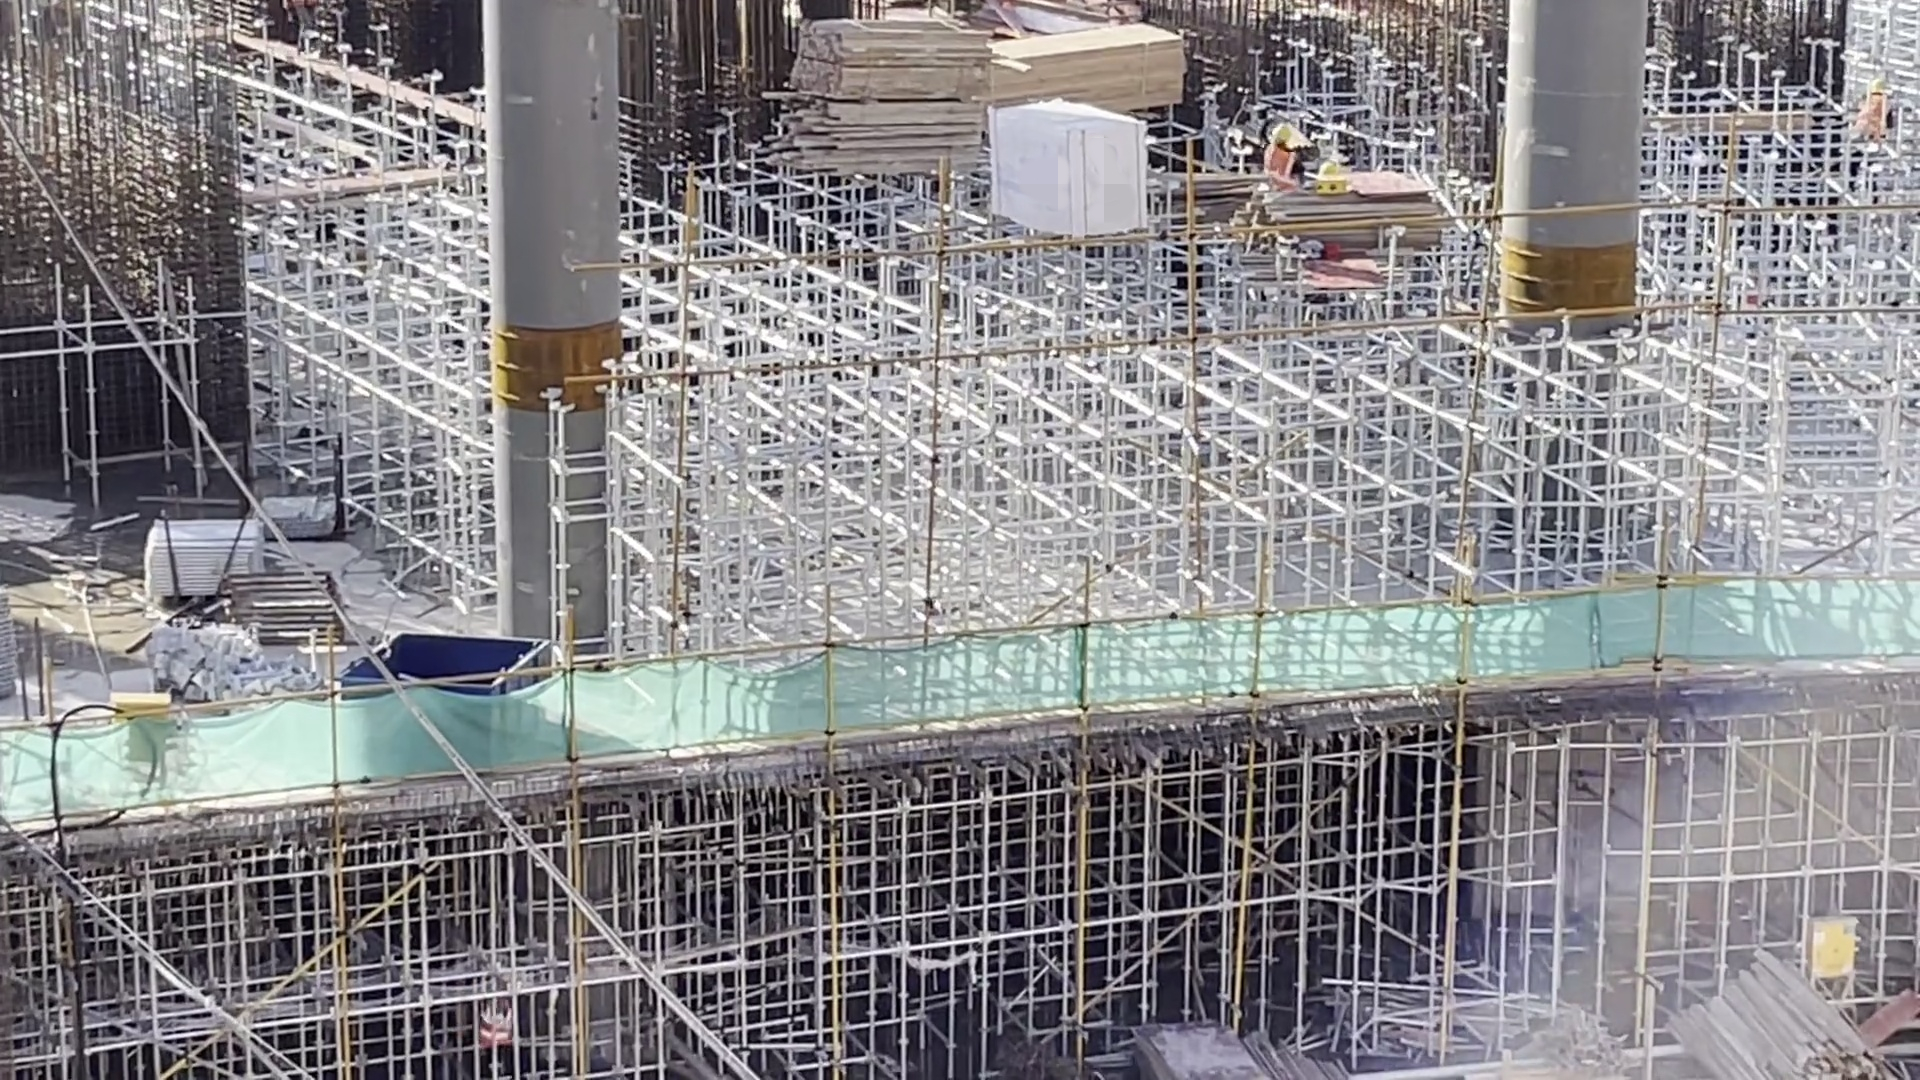board: (1273, 179, 1491, 262)
ebox: (108, 677, 164, 782), (1804, 914, 1861, 959)
helmet: (1269, 129, 1296, 147), (1872, 75, 1885, 95)
hopper: (339, 636, 553, 786)
person: (471, 956, 536, 1080), (1861, 86, 1909, 171), (1263, 113, 1314, 183)
scaffold: (136, 516, 284, 612)
vest: (1268, 149, 1319, 191), (484, 981, 516, 1042)
wood: (826, 21, 984, 182), (1693, 944, 1843, 1080), (999, 37, 1201, 106)
